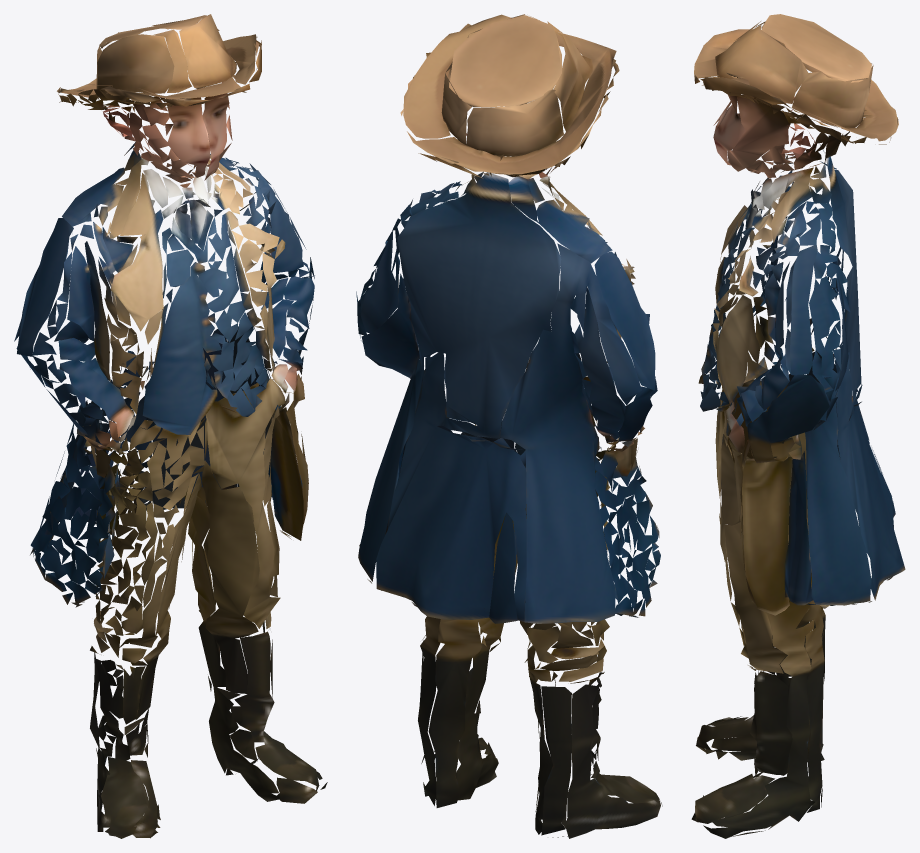
The model's file is char_child_m.glb.
3 views of the same model, side by side, from view 1: azimuth 30°, elevation 25°; view 2: azimuth 150°, elevation 25°; view 3: azimuth 270°, elevation 25° (orthographic). The views are drawn at different scales.
Parts seen in each view (by area): view 1: geometry_0; view 2: geometry_0; view 3: geometry_0.
Part boxes in pixels (bbox=[...]): geometry_0: bbox=[14, 14, 327, 838]; geometry_0: bbox=[356, 14, 662, 838]; geometry_0: bbox=[691, 14, 905, 838].
Size of the model in its own units: 0.4745 by 1.2 by 0.3067.
Materials: 1 (1 with a texture image).
